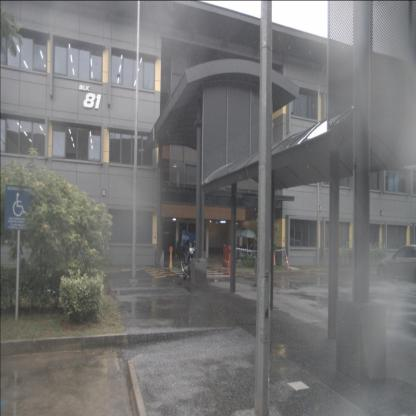barrier: (222, 244, 232, 268)
cone: (284, 248, 291, 270), (272, 251, 276, 267)
